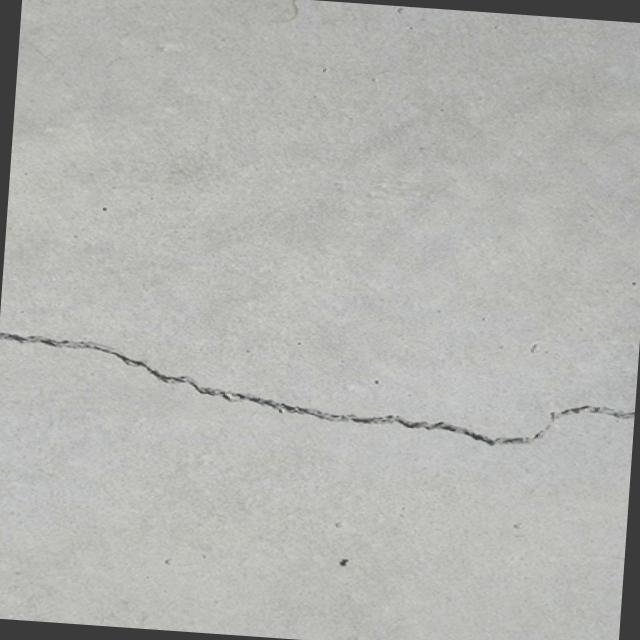crack: (0, 325, 631, 464)
